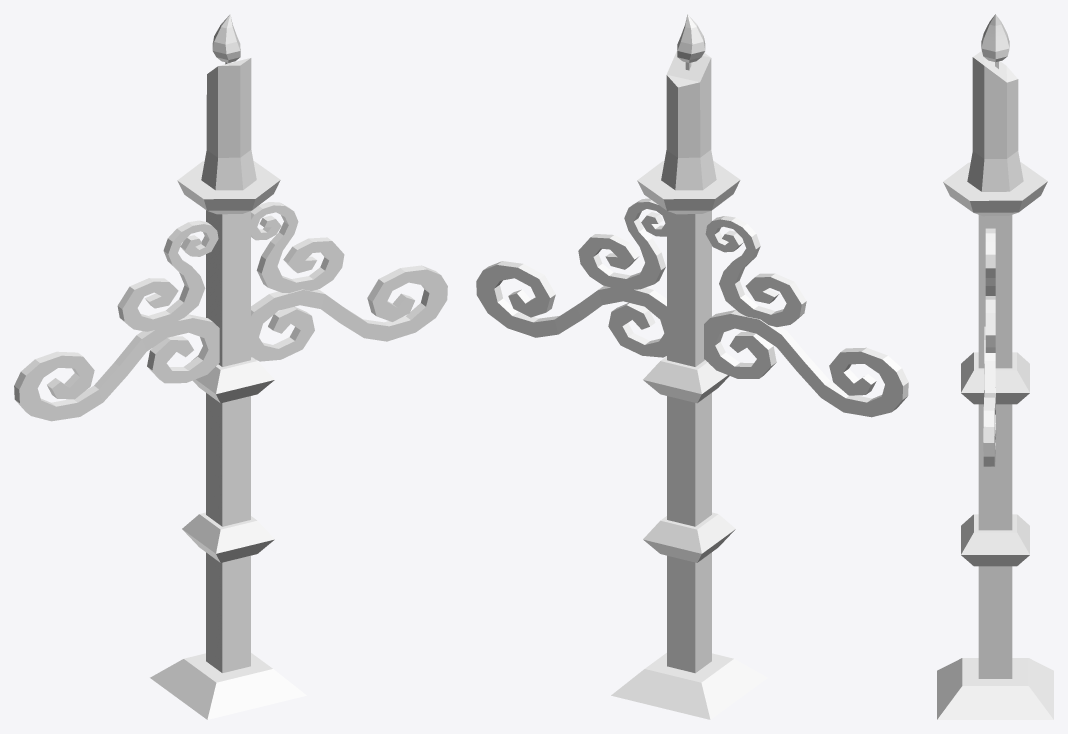
Rendered from candlelabra.fbx.
3 renders of one model, left to right at view 1: azimuth 30°, elevation 25°; view 2: azimuth 150°, elevation 25°; view 3: azimuth 270°, elevation 25°, orthographic.
Parts seen in each view (by area): view 1: candlelabra 1, candle, candleDish, candleFlame; view 2: candlelabra 1, candle, candleDish, candleFlame; view 3: candlelabra 1, candle, candleDish, candleFlame.
Boxes of the visible parts, x1,y1,x2,y2 form: candlelabra 1: (14,202,447,719); candle: (201,58,256,190); candleDish: (177,161,280,214); candleFlame: (212,14,240,62); candlelabra 1: (476,198,908,719); candle: (661,50,716,190); candleDish: (637,161,740,214); candleFlame: (677,14,705,62); candlelabra 1: (937,215,1053,719); candle: (967,51,1023,191); candleDish: (943,162,1047,216); candleFlame: (981,14,1009,62).
Bounding box in the file's own units: 132 × 198 × 30.79.
Materials: 1 (1 with a texture image).
